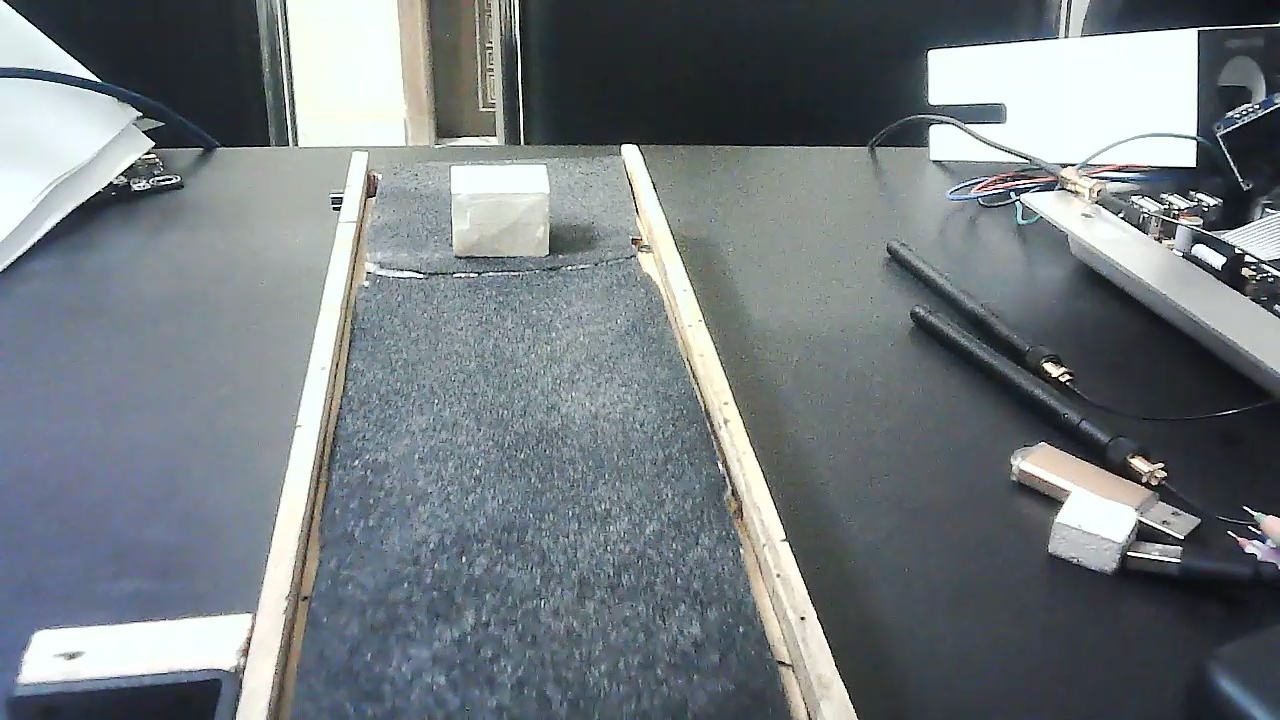Medium: (450, 161, 549, 260)
